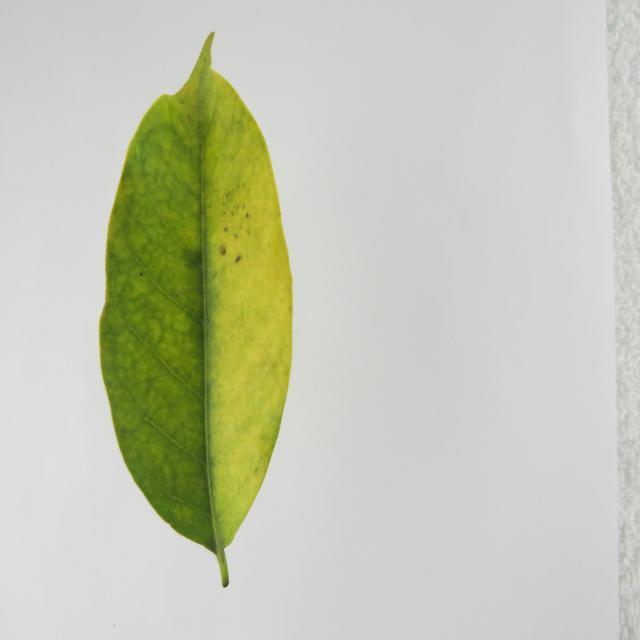DeficienciaNutricional-Hierro: (100, 33, 292, 587)
